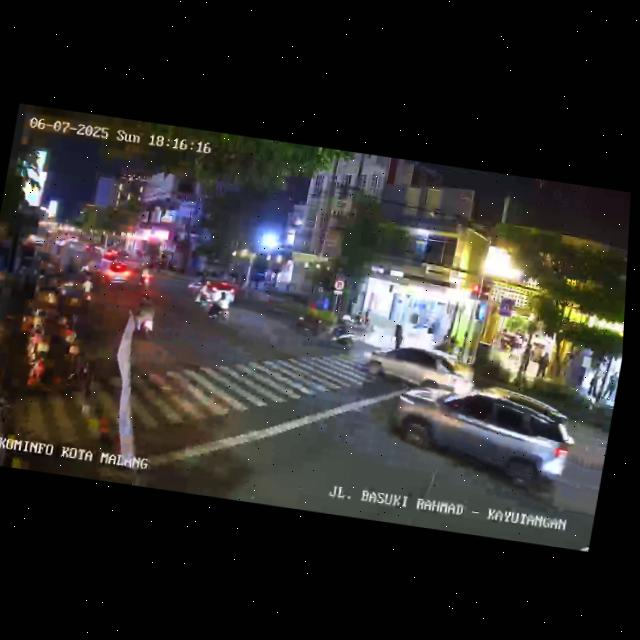car: (380, 374, 583, 498), (358, 342, 482, 398), (185, 272, 239, 307), (82, 255, 132, 283)
motorcycle: (125, 294, 163, 338), (201, 284, 236, 327), (321, 315, 358, 352), (295, 299, 323, 340), (77, 271, 99, 308), (136, 262, 153, 289)
person: (516, 342, 532, 379), (534, 348, 551, 380), (389, 321, 405, 350), (585, 371, 599, 402), (604, 373, 618, 404), (357, 306, 374, 330)
